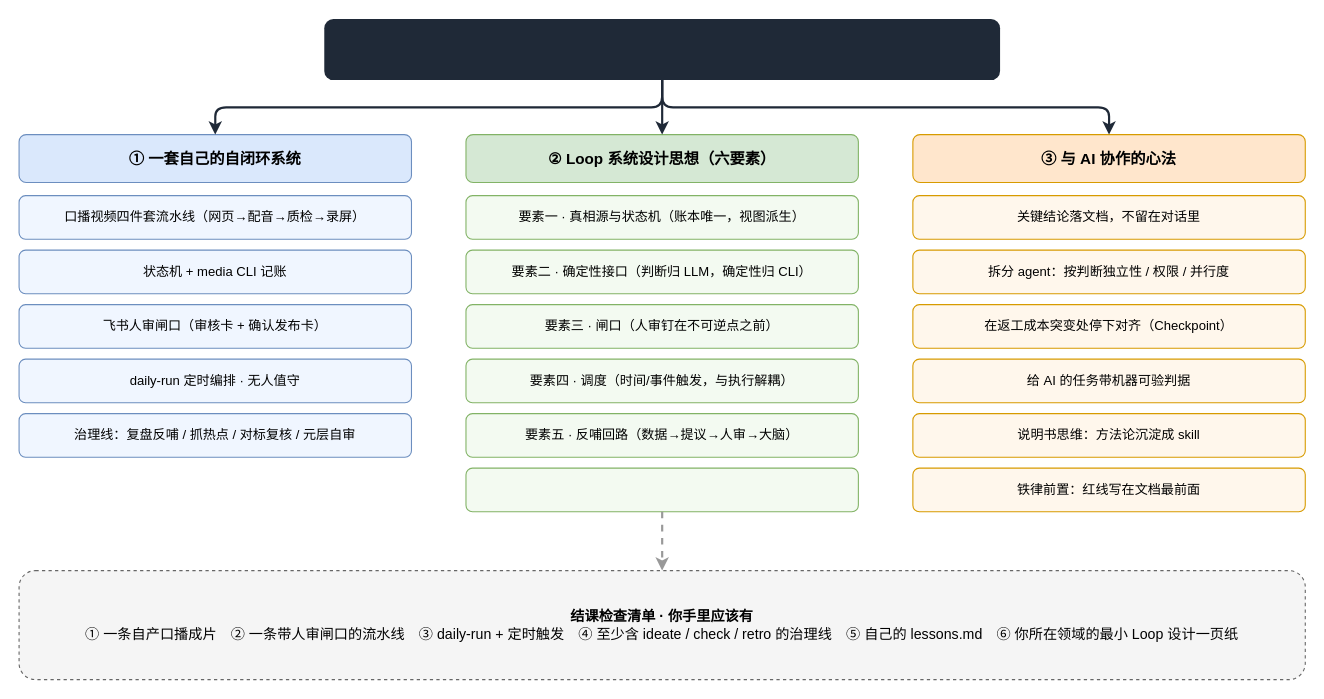
Some shapes in this 1324 by 699 pixel diagram are drawn without their labels. Each missing label, with the centre of its shape:
"要素六 · 自审与记性（元层限幅自调 + 教训账本）" belongs at (661,489).
"这门课你能带走什么 · WebVideo 口播课收获地图" belongs at (662,49).
